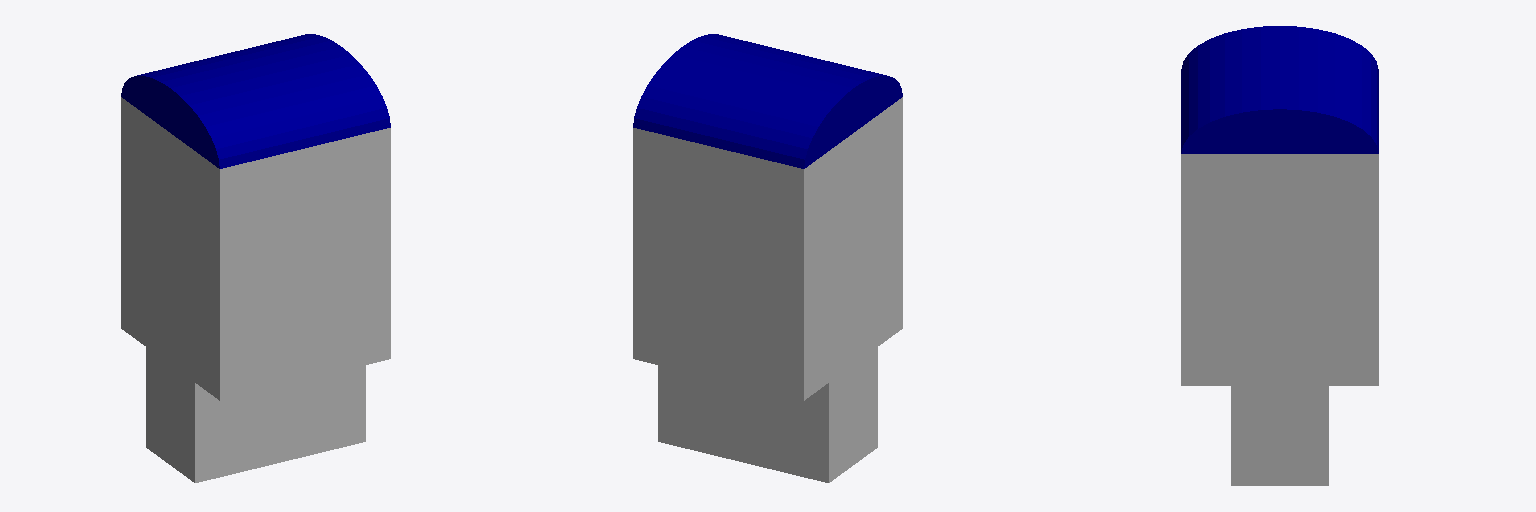
File: body_l_distal_pinvround.obj
3 renders of one model, left to right at view 1: azimuth 30°, elevation 25°; view 2: azimuth 150°, elevation 25°; view 3: azimuth 270°, elevation 25°, orthographic.
Parts seen in each view (by area): view 1: body_l_distal_pinvround_Cube.039; view 2: body_l_distal_pinvround_Cube.039; view 3: body_l_distal_pinvround_Cube.039.
Part boxes in pixels (left/top/right/bottom): body_l_distal_pinvround_Cube.039: left=121, top=34, right=390, bottom=482; body_l_distal_pinvround_Cube.039: left=633, top=34, right=902, bottom=482; body_l_distal_pinvround_Cube.039: left=1181, top=26, right=1378, bottom=485.
Size of the model in its own units: 0.02 by 0.0421 by 0.02.